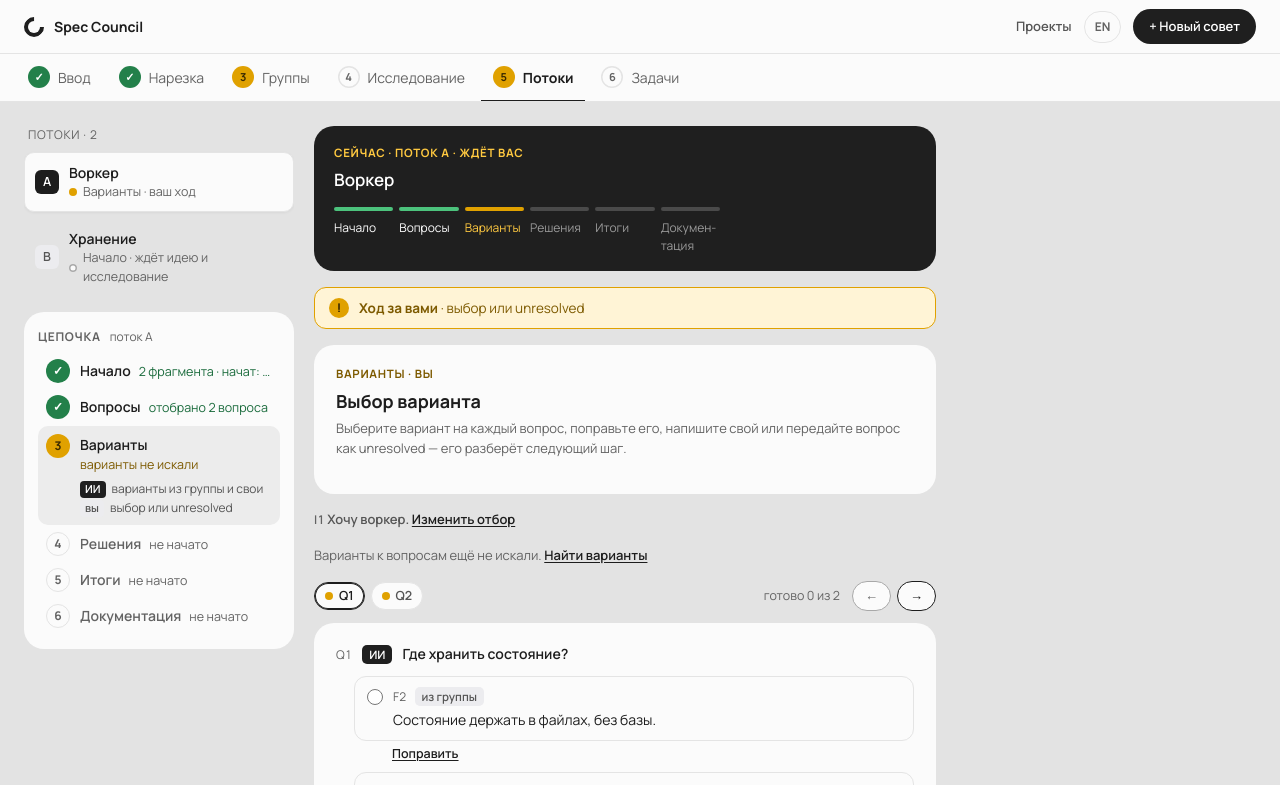
Test: Поток: начало и вопросы › «Найти варианты» не удалось — отказ виден
The width and height of the screenshot is (1280, 785).
Click the button "Найти варианты". click: click(596, 556)
box: [544,546,648,565]
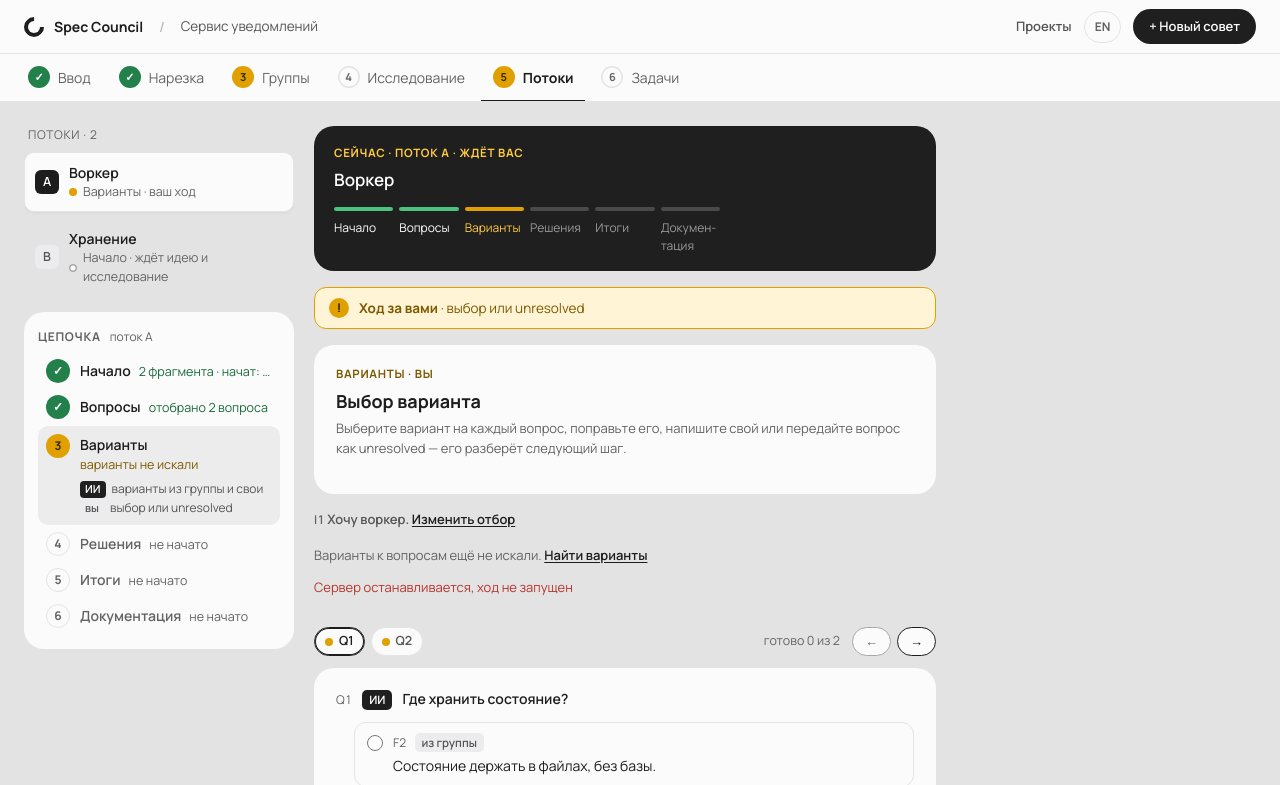
Expected: the message "Сервер останавливается, ход не запущен" is shown, [314,578,573,596]
